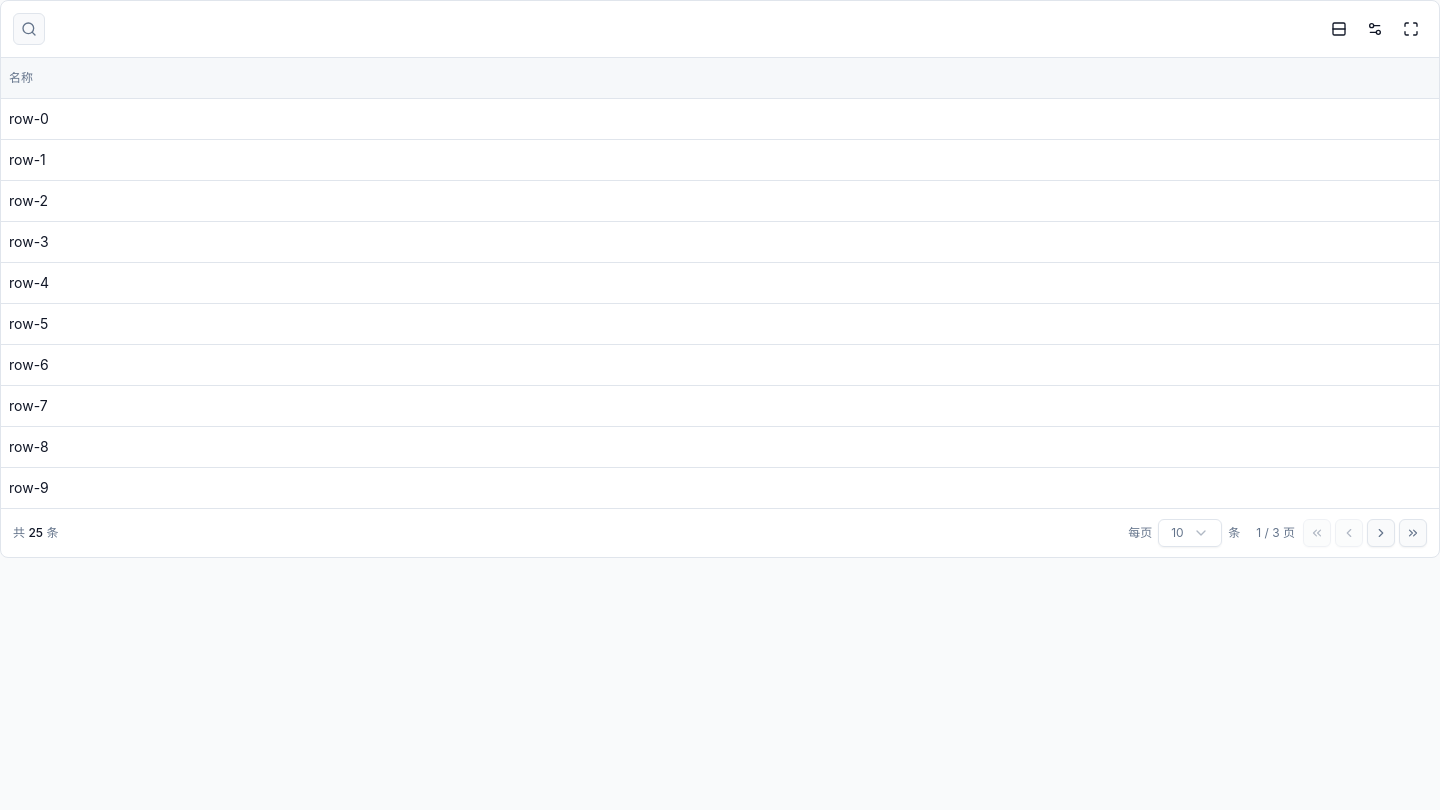
Scenario: DataTable 分页 › 本地模式：25 行默认每页 10 → 3 页；下一页显示 11-20 行
This screenshot has width=1440, height=810.
expect the text "row-0" is shown: met, box 9,110 -> 49,126
expect the text "row-10" is not shown: met
Click the 7th button.
click(1381, 532)  # box 1367,518 -> 1395,546
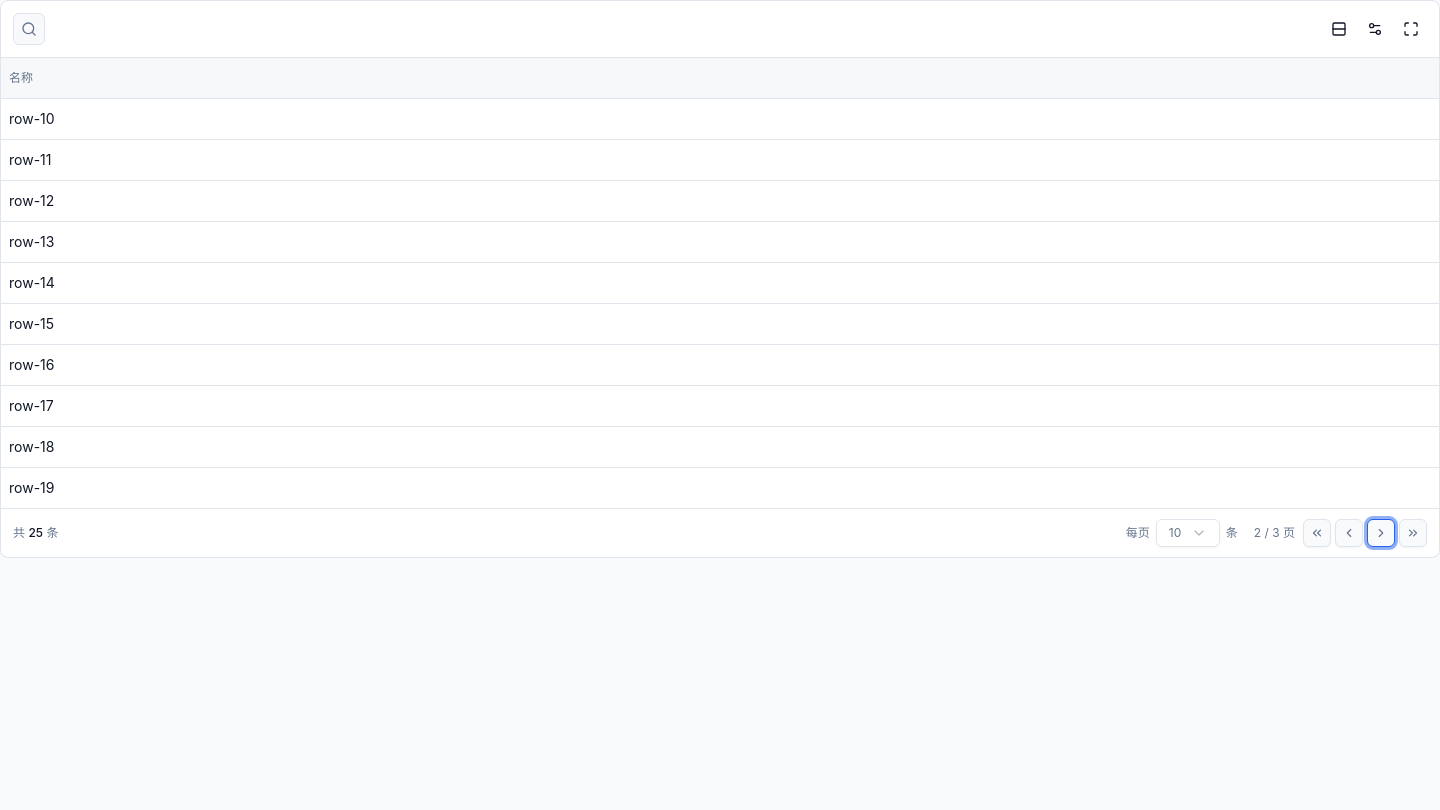
expect the text "2 / 3 页" is shown: met, box 1254,524 -> 1295,540
expect the text "row-10" is shown: met, box 9,110 -> 55,126
expect the text "row-0" is gone: met
